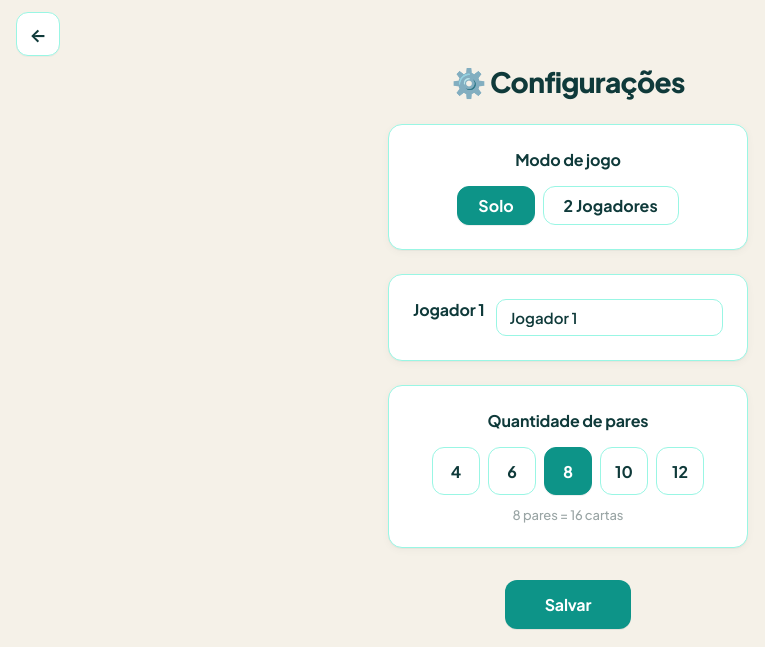
Settings — botão Salvar › botão Salvar fica desabilitado após salvar
Click the button "Salvar" at (568,604), box [505,580,631,629]
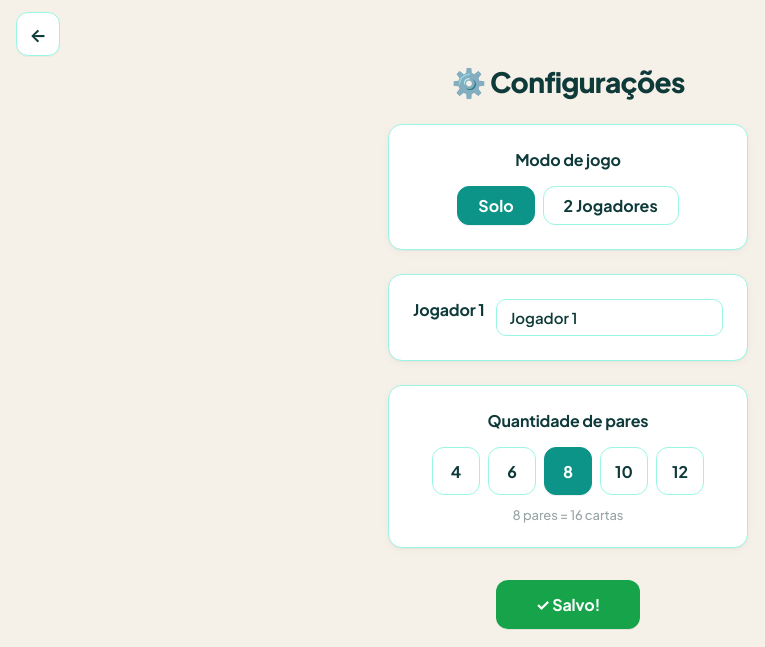
Now the button "✓ Salvo!" is disabled, box [496,580,640,629]
